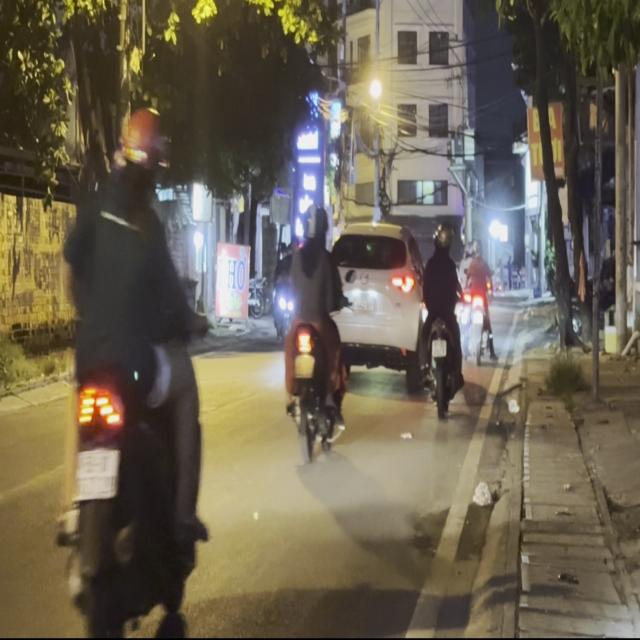helmet: (117, 104, 167, 196), (300, 199, 328, 248), (432, 222, 450, 252)
licenseplate: (52, 94, 212, 631), (278, 193, 349, 459), (417, 219, 465, 417)
nohelmet: (74, 448, 118, 497), (294, 354, 314, 376), (431, 339, 446, 356)
